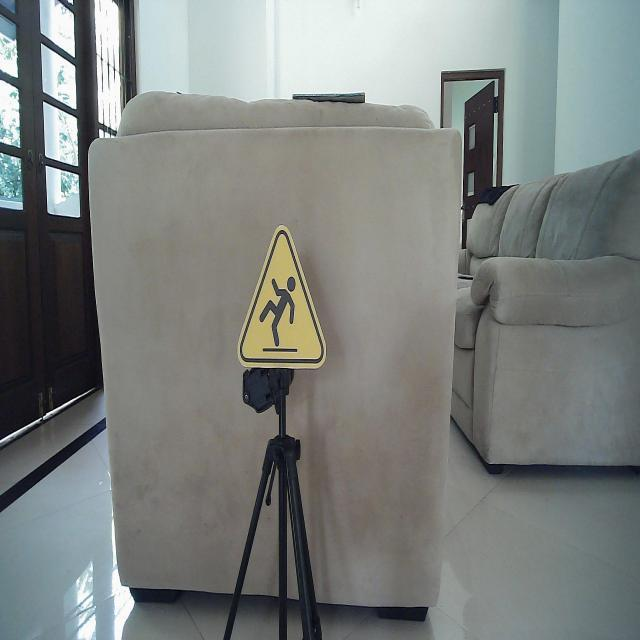slippery_sign: (236, 222, 329, 372)
